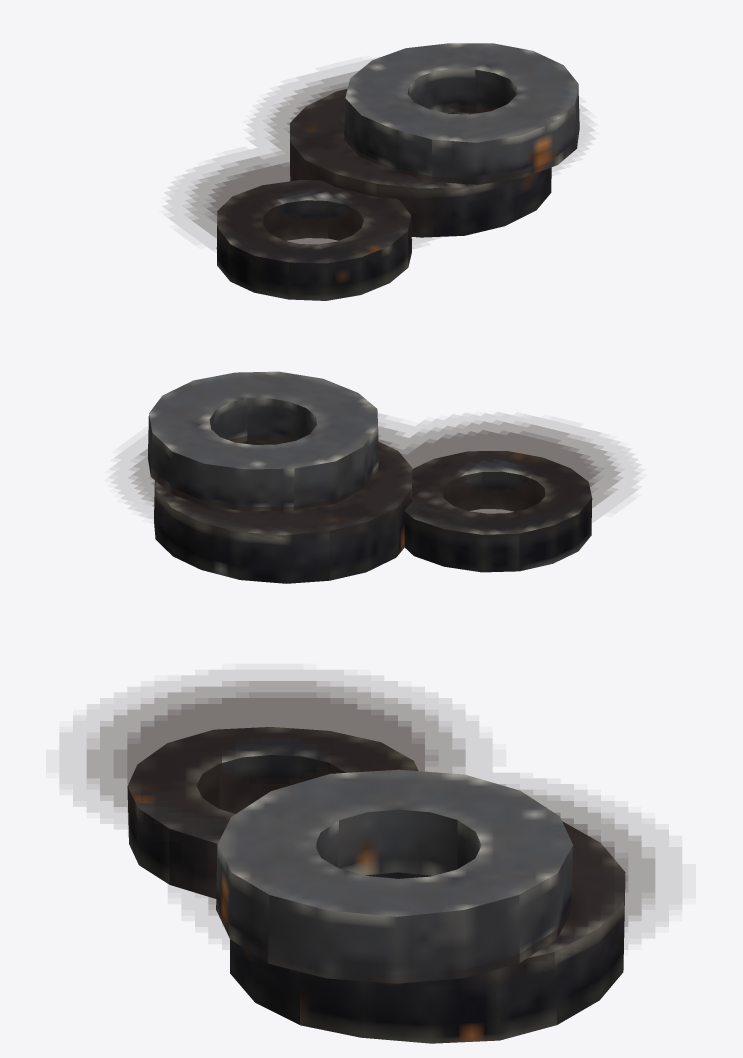
3 views of the same model, one above another, from view 1: azimuth 30°, elevation 25°; view 2: azimuth 150°, elevation 25°; view 3: azimuth 270°, elevation 25° (orthographic). The views are drawn at different scales.
Parts seen in each view (by area): view 1: Tyre, GroundShade; view 2: Tyre, GroundShade; view 3: Tyre, GroundShade.
Part boxes in pixels (x1,y1,x2,y2): Tyre: (216,43,579,300); GroundShade: (166,59,594,265); Tyre: (148,371,592,583); GroundShade: (112,413,638,547); Tyre: (127,727,625,1043); GroundShade: (60,670,681,983).
Bounding box in the file's own units: 7.55 × 1.43 × 6.45.
2 materials, 2 textured.
